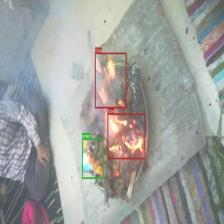fire: (108, 113, 146, 159), (95, 52, 126, 108)
